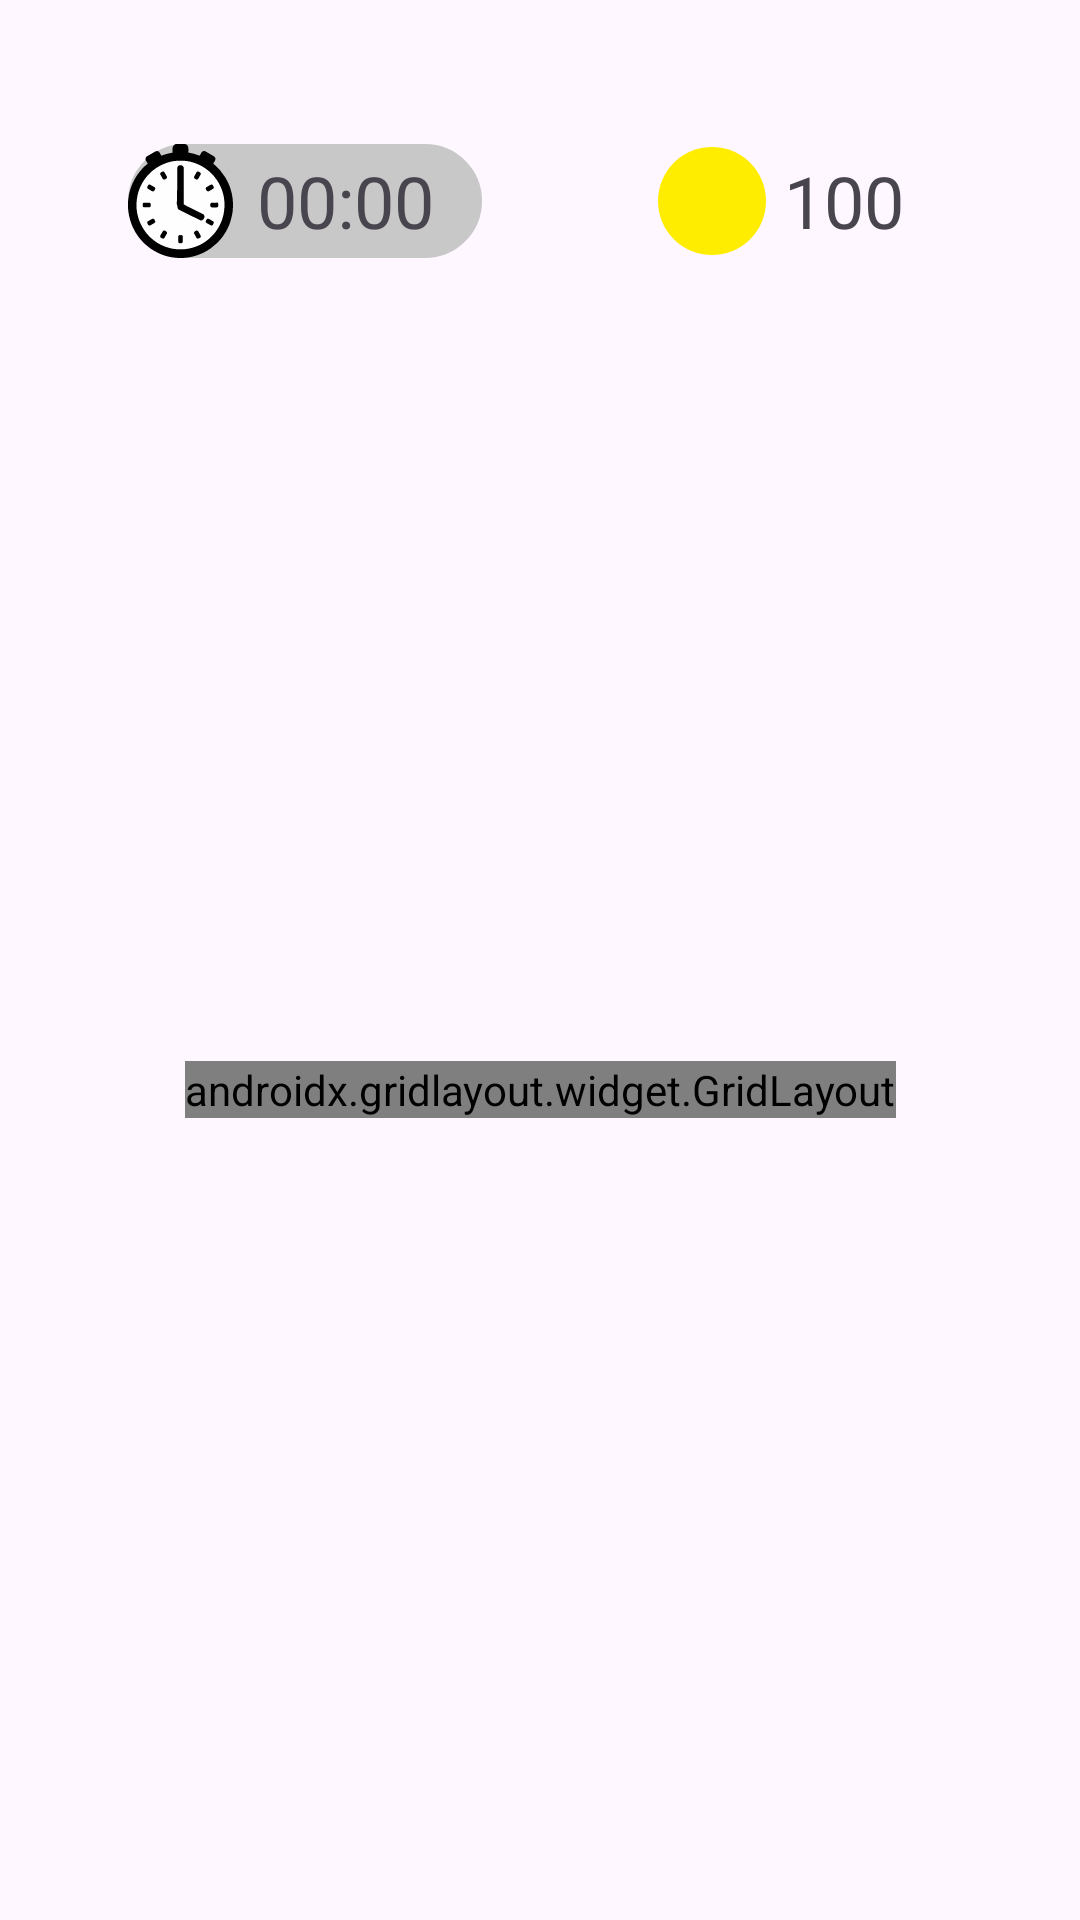

Where to tap for icons on this 1080*1920 app screen, as (x=x, y=y):
clock: (x=180, y=201)
